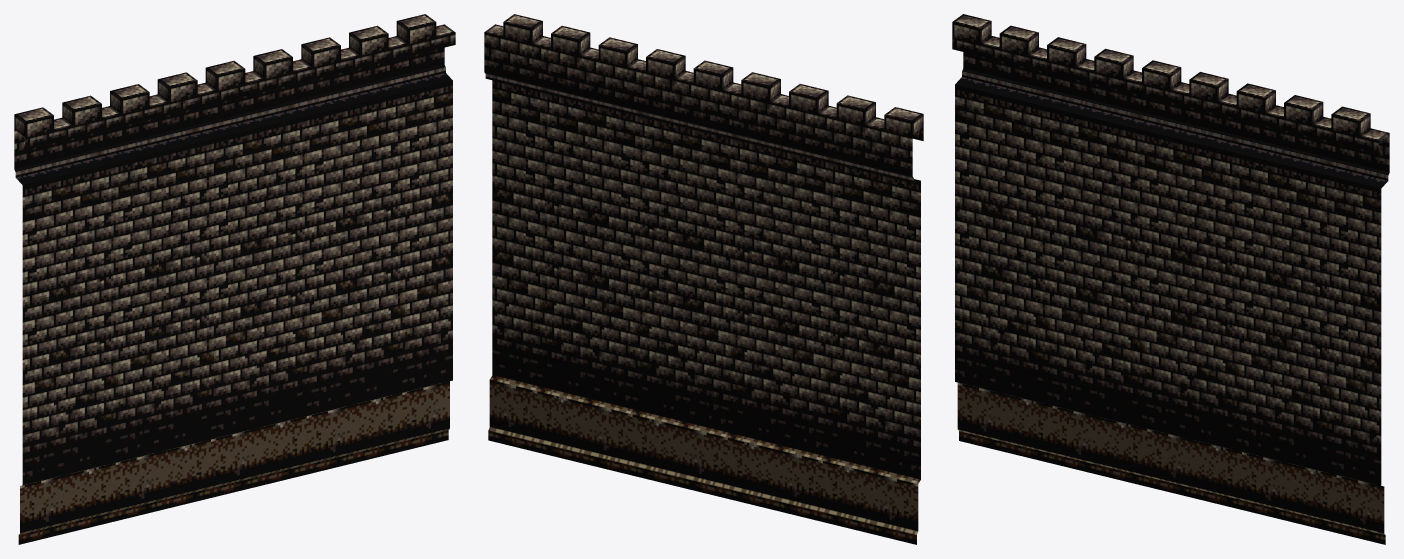
Rendered from SM_Wall01.fbx.
3 views of the same model, side by side, from view 1: azimuth 30°, elevation 25°; view 2: azimuth 150°, elevation 25°; view 3: azimuth 330°, elevation 25° (orthographic).
Visible parts, largest first — view 1: SM_Wall01; view 2: SM_Wall01; view 3: SM_Wall01.
Boxes of the visible parts, <box> form: SM_Wall01: <box>14,14,455,544</box>; SM_Wall01: <box>484,14,923,544</box>; SM_Wall01: <box>952,14,1389,544</box>.
Size of the model in its own units: 900 by 855 by 40.
